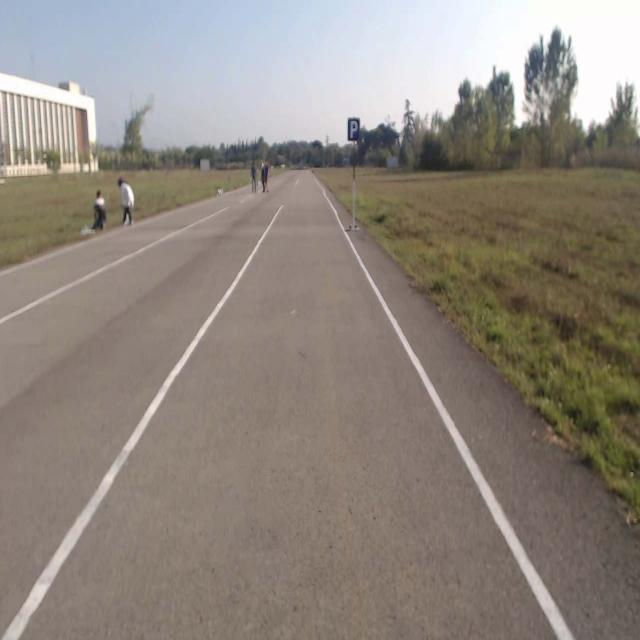park: (347, 117, 359, 140)
